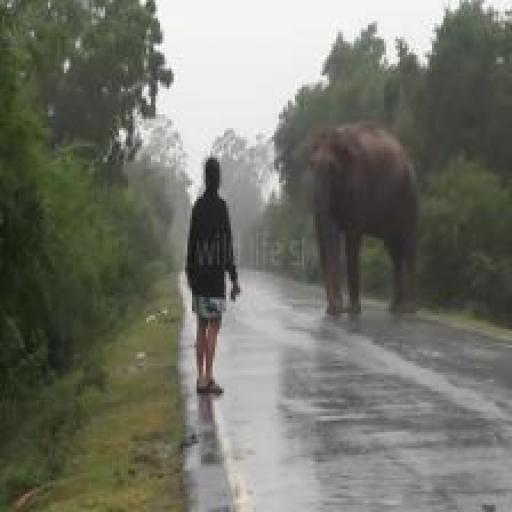Elephant: (279, 96, 424, 369)
